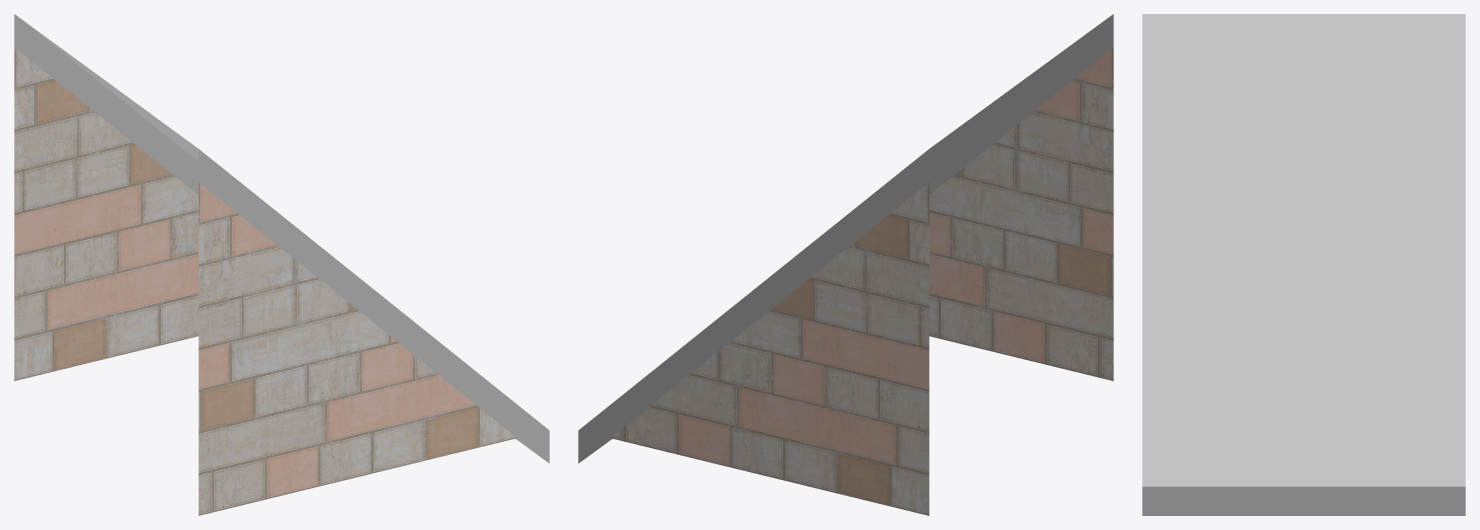
Rendered from Roof_Side_Eaves.fbx.
3 renders of one model, left to right at view 1: azimuth 30°, elevation 25°; view 2: azimuth 150°, elevation 25°; view 3: azimuth 270°, elevation 25°, orthographic. The views are drawn at different scales.
Visible parts, largest first — view 1: Roof_Side_Eaves; view 2: Roof_Side_Eaves; view 3: Roof_Side_Eaves.
Part boxes in pixels (x1,y1,x2,y2): Roof_Side_Eaves: [14, 14, 549, 515]; Roof_Side_Eaves: [578, 14, 1113, 515]; Roof_Side_Eaves: [1142, 14, 1465, 515].
Bounding box in the file's own units: 220 × 240 × 200.
